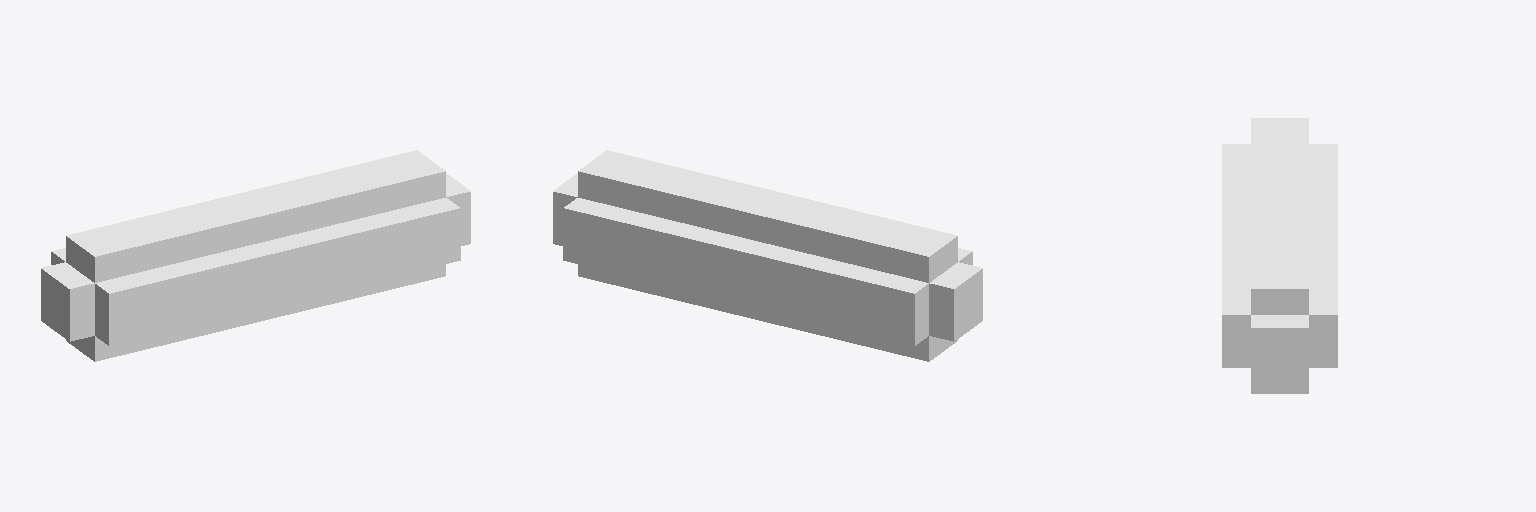
File: Paddle.obj
3 views of the same model, side by side, from view 1: azimuth 30°, elevation 25°; view 2: azimuth 150°, elevation 25°; view 3: azimuth 270°, elevation 25° (orthographic).
Parts seen in each view (by area): view 1: Paddle; view 2: Paddle; view 3: Paddle.
Boxes of the visible parts, box(x1,y1,x2,y2) form: Paddle: box(41, 150, 470, 361); Paddle: box(553, 150, 982, 361); Paddle: box(1222, 118, 1337, 393).
Bounding box in the file's own units: 16 × 4 × 4.